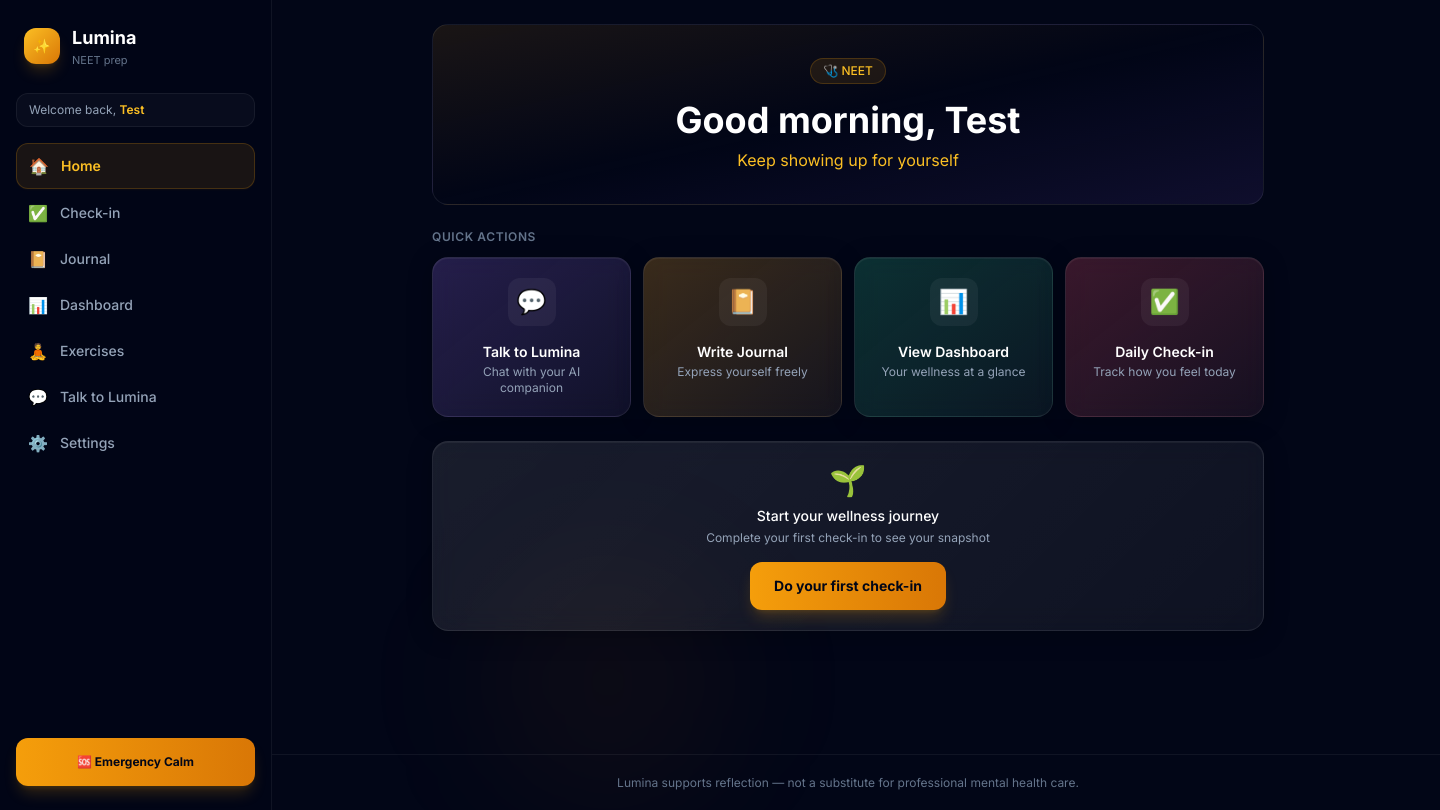
Test: App › submits daily check-in with metrics
The image size is (1440, 810).
Step 1. Click the button "✅ Check-in" → (136, 212), box [16, 190, 255, 234]
(page scrolled)
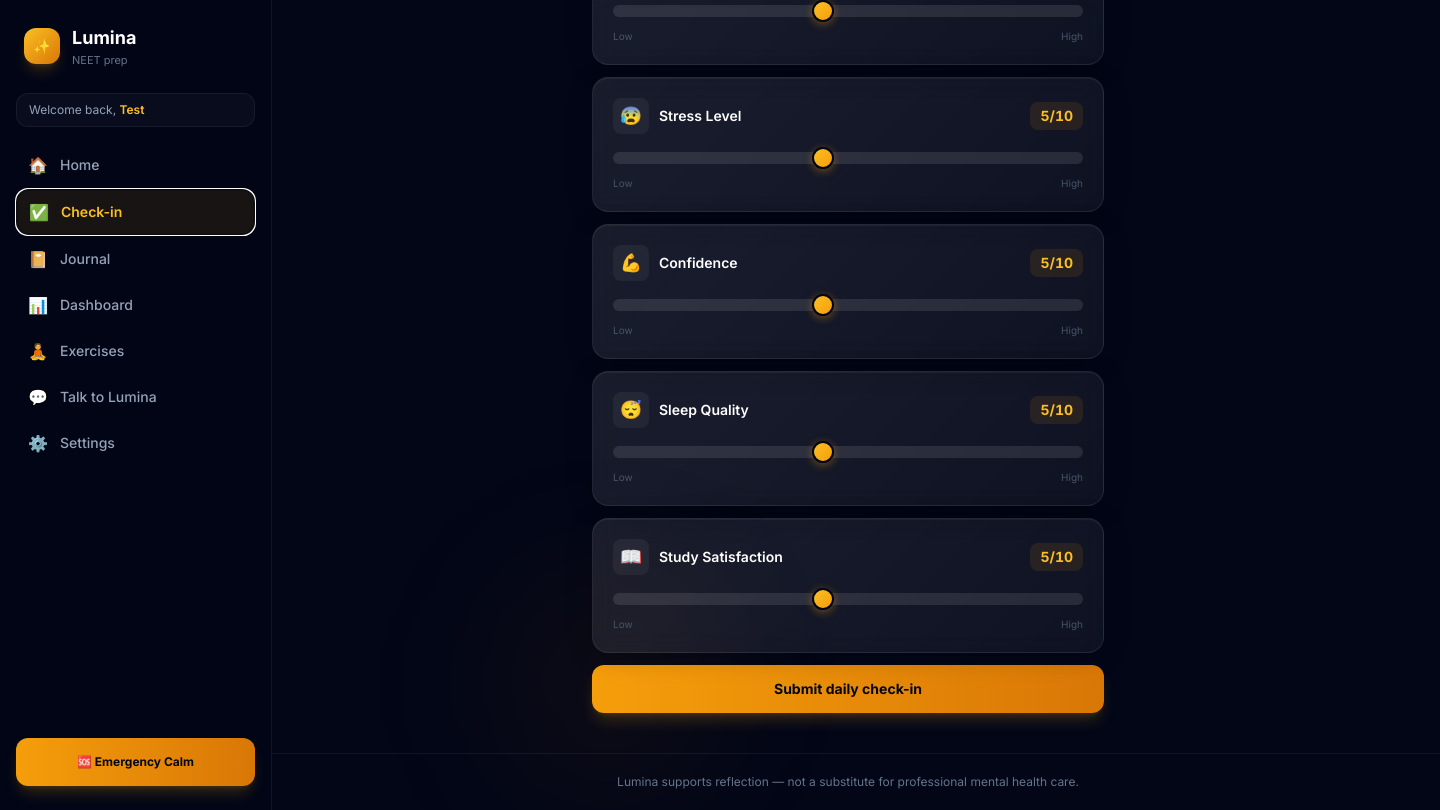
Step 2. Click the button "Submit daily check-in" → (848, 689), box [592, 665, 1104, 713]
(page scrolled)
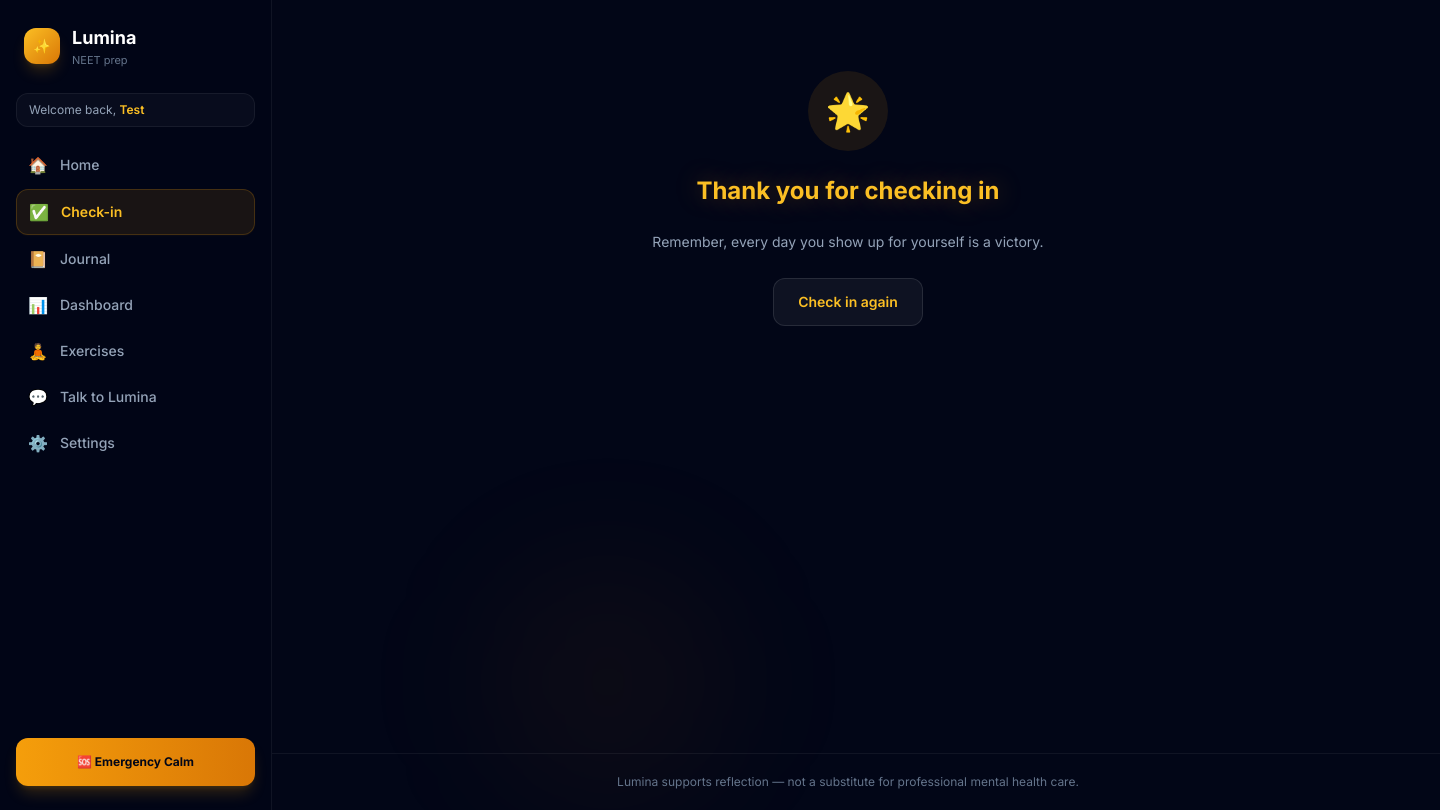
Expected: the heading "Thank you for checking in" is shown, [696, 176, 1000, 205]
